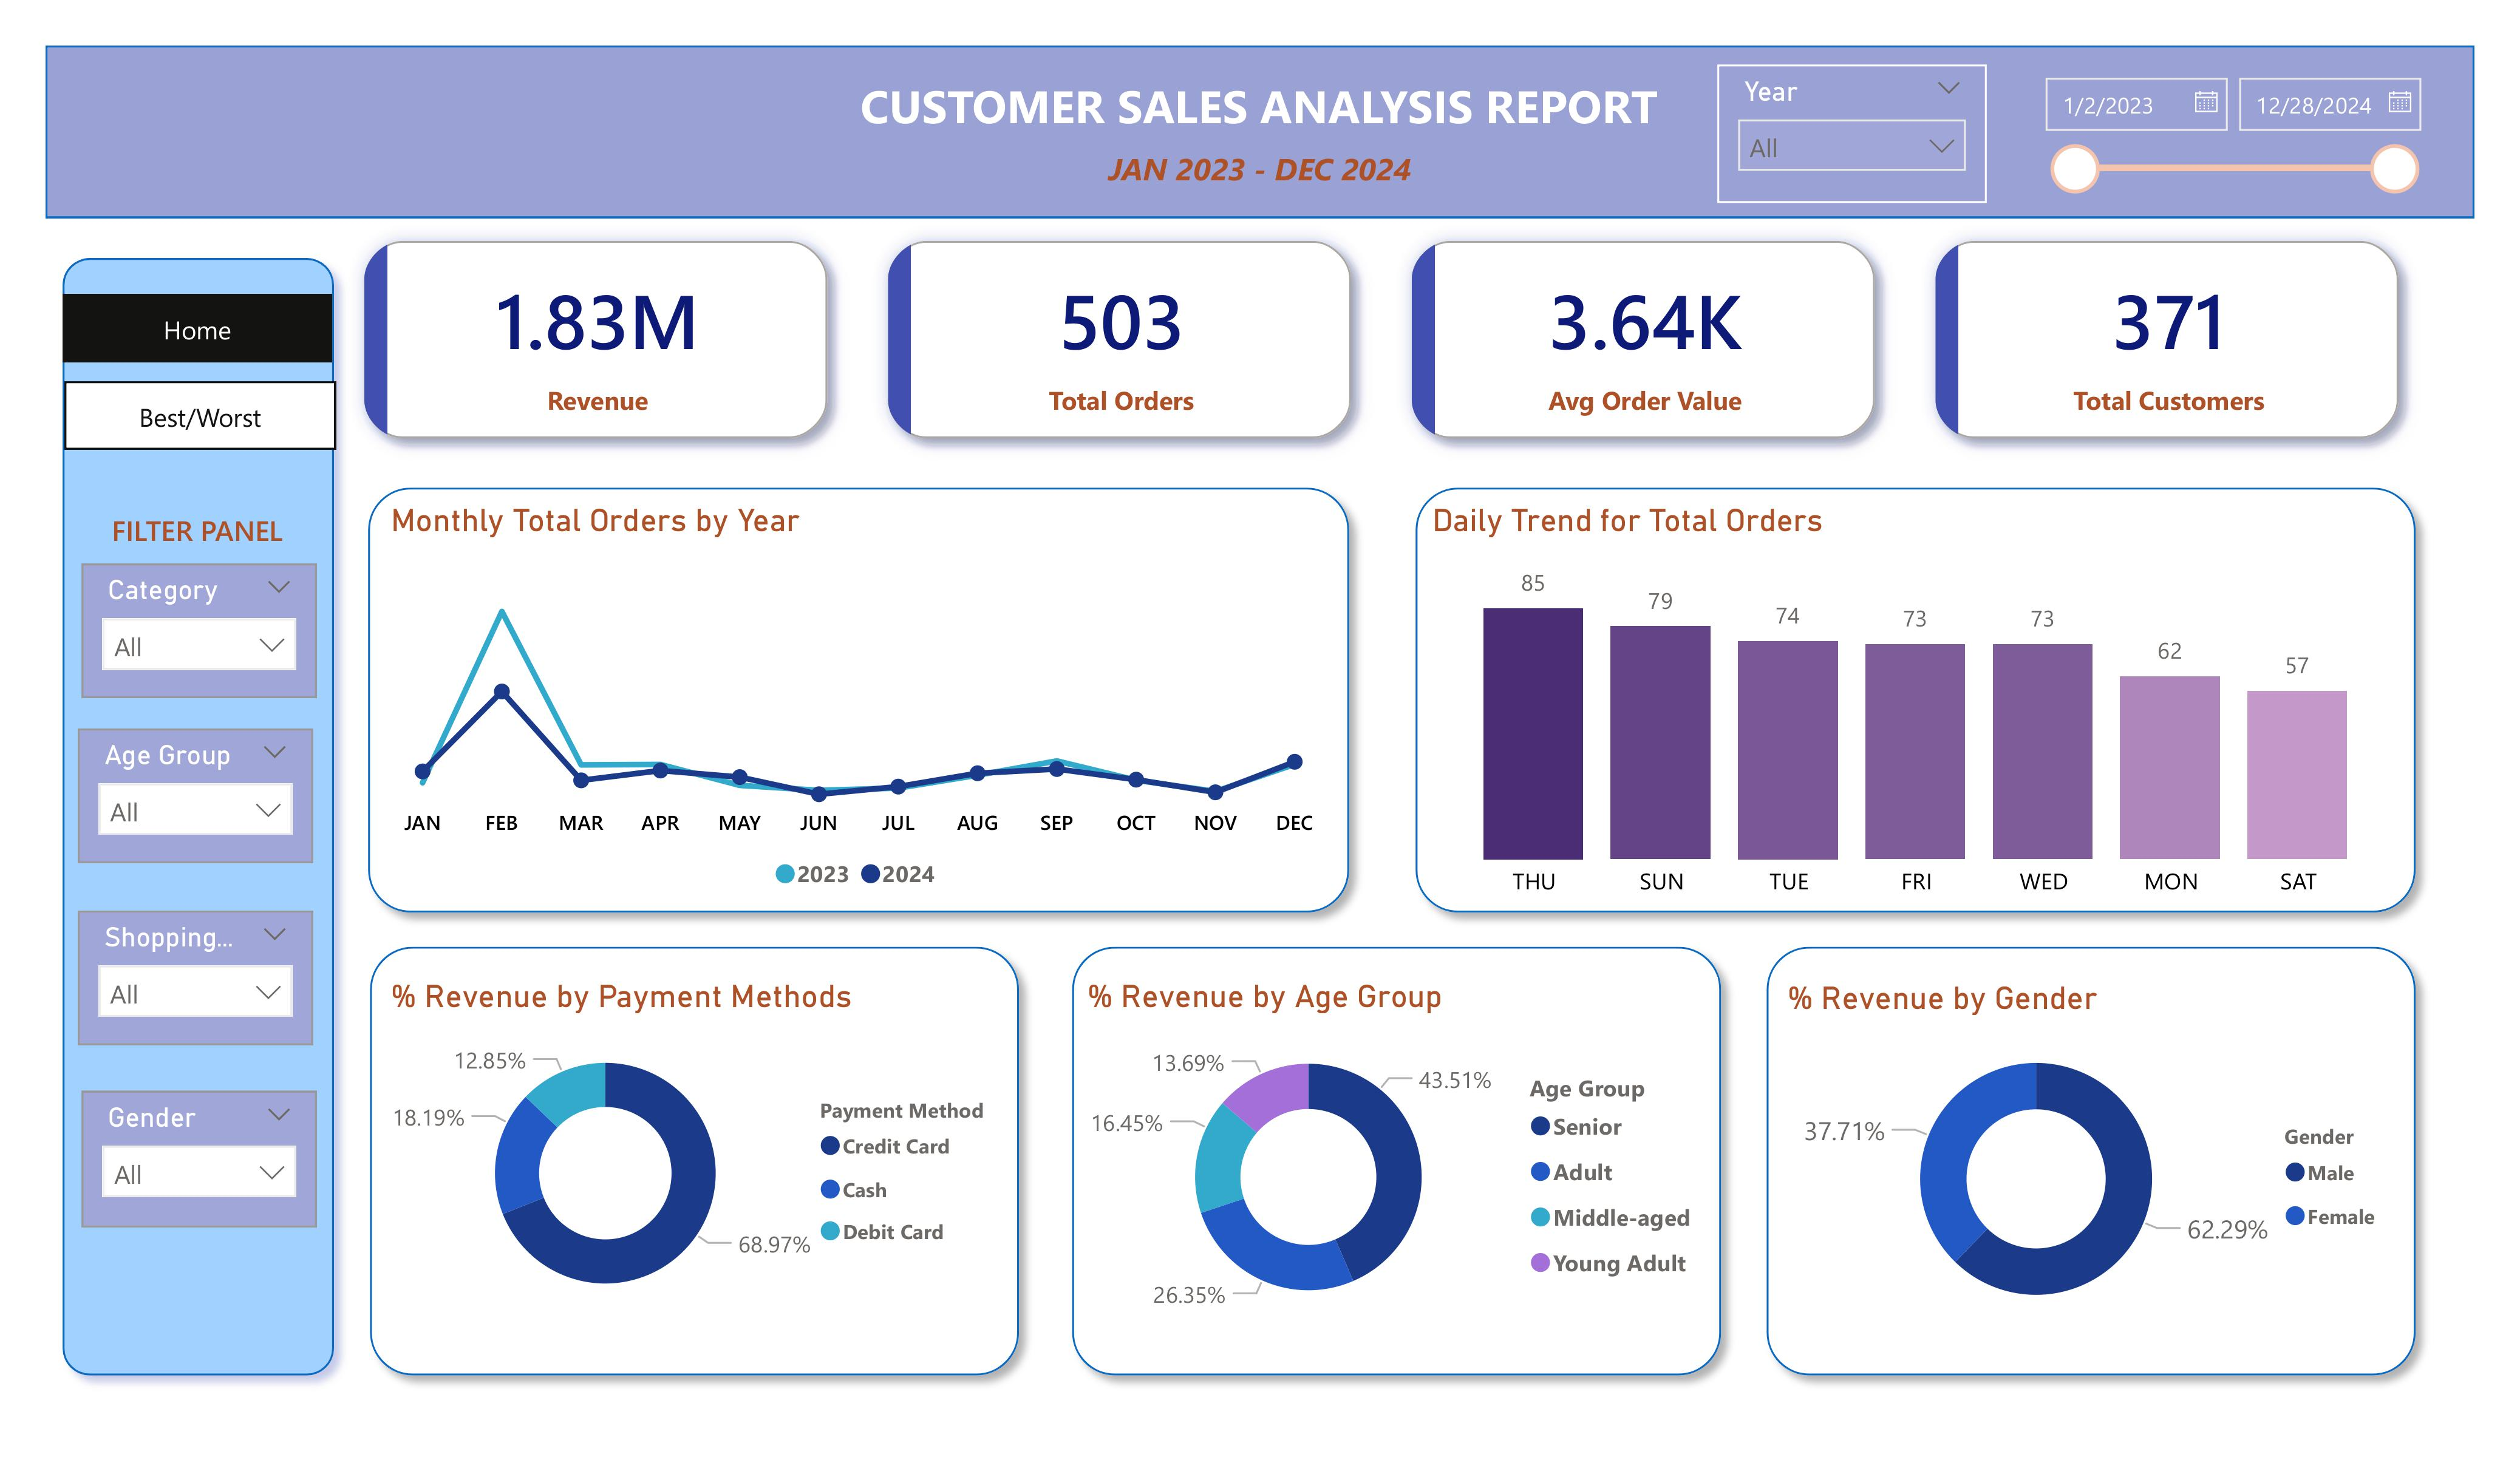

Layout of this report page (visuals, bound fields, positions):
{"tool":"powerbi","page":{"name":"Home","canvas":[1280,720],"ordinal":0},"visuals":[{"type":"shape","box":[0,0,1280,91.4],"z":0},{"type":"shape","box":[0,102.9,161.4,607.1],"z":1000},{"type":"shape","box":[161.4,224.3,534.3,241.4],"z":2000},{"type":"shape","box":[161.9,465.6,359.9,244.1],"z":3000},{"type":"cardVisual","fields":{"Data":["data_cleaned.Revenue","data_cleaned.Total Invoice","data_cleaned.Avg Revenue Per Invoice","data_cleaned.Number of Customers"]},"box":[151.4,85.7,1107.1,138.6],"z":4000},{"type":"shape","box":[712.9,224.3,545,241.3],"z":5000},{"type":"shape","box":[532.3,465.6,359.9,244.1],"z":6000},{"type":"shape","box":[898.1,465.6,359.9,244.1],"z":7000},{"type":"textbox","box":[398.1,9.5,482.7,42.3],"z":8000},{"type":"donutChart","title":"% Revenue by Payment Methods","fields":{"Category":["data_cleaned.Payment_Method"],"Y":["data_cleaned.Revenue"]},"box":[177.1,491.4,344.3,187.1],"z":9000},{"type":"donutChart","title":"% Revenue by Gender","fields":{"Category":["data_cleaned.Gender"],"Y":["data_cleaned.Revenue"]},"box":[912.7,492.3,329.9,191.2],"z":10000},{"type":"donutChart","title":"% Revenue by Age Group","fields":{"Category":["data_cleaned.Age_Group"],"Y":["data_cleaned.Revenue"]},"box":[544.3,491.4,337.1,191.4],"z":11000},{"type":"lineChart","title":"Monthly Total Orders by Year","fields":{"Series":["data_cleaned.Year"],"Category":["data_cleaned.Month Name"],"Y":["Sum(data_cleaned.Total_Price)"]},"box":[177.3,239.7,502.6,215.2],"z":12000},{"type":"columnChart","title":"Daily Trend for Total Orders","fields":{"Category":["data_cleaned.Order Day"],"Y":["data_cleaned.Total Invoice"]},"box":[725.7,240,520,218.6],"z":13000},{"type":"textbox","box":[398.6,48.6,482.9,42.9],"z":14000},{"type":"slicer","fields":{"Values":["data_cleaned.Invoice_Date"]},"box":[1041.4,7.1,217.1,75.7],"z":15000},{"type":"textbox","box":[8.6,240,142.9,37.1],"z":16000},{"type":"slicer","fields":{"Values":["data_cleaned.Category"]},"box":[18.6,272.9,124.3,71.4],"z":17000},{"type":"slicer","fields":{"Values":["data_cleaned.Year"]},"box":[881.4,10,141.4,72.9],"z":18000},{"type":"slicer","fields":{"Values":["data_cleaned.Age_Group"]},"box":[17.1,360,124.3,71.4],"z":19000},{"type":"slicer","fields":{"Values":["data_cleaned.Shopping_Mall"]},"box":[17.1,455.7,124.3,71.4],"z":20000},{"type":"slicer","fields":{"Values":["data_cleaned.Gender"]},"box":[18.6,551.4,124.3,71.4],"z":21000},{"type":"pageNavigator","box":[8.6,131.4,142.9,35.7],"z":22000},{"type":"pageNavigator","box":[10,177.1,142.9,35.7],"z":23000}]}

Visuals, with their boxes in screenshot pixels (x1, y1, x2, y2):
shape: 46, 46, 2474, 219
shape: 46, 241, 352, 1393
shape: 352, 471, 1366, 929
shape: 353, 929, 1036, 1392
cardVisual - data_cleaned.Revenue x data_cleaned.Total Invoice: 333, 208, 2434, 471
shape: 1398, 471, 2433, 929
shape: 1055, 929, 1738, 1392
shape: 1750, 929, 2433, 1392
textbox: 801, 64, 1717, 144
"% Revenue by Payment Methods" donutChart: 381, 978, 1035, 1333
"% Revenue by Gender" donutChart: 1777, 979, 2403, 1342
"% Revenue by Age Group" donutChart: 1078, 978, 1718, 1341
"Monthly Total Orders by Year" lineChart: 382, 500, 1336, 909
"Daily Trend for Total Orders" columnChart: 1423, 501, 2409, 915
textbox: 802, 138, 1718, 219
slicer - data_cleaned.Invoice_Date: 2021, 59, 2434, 203
textbox: 62, 501, 333, 571
slicer - data_cleaned.Category: 81, 563, 317, 699
slicer - data_cleaned.Year: 1718, 64, 1986, 203
slicer - data_cleaned.Age_Group: 78, 728, 314, 864
slicer - data_cleaned.Shopping_Mall: 78, 910, 314, 1045
slicer - data_cleaned.Gender: 81, 1092, 317, 1227
pageNavigator: 62, 295, 333, 362
pageNavigator: 64, 381, 336, 449
